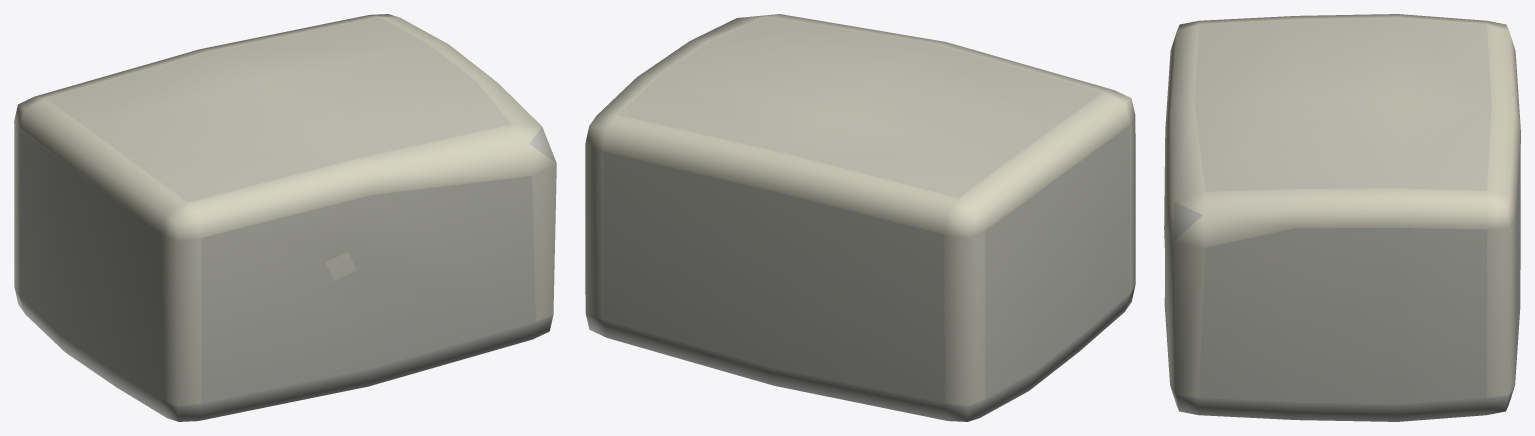
File: block_corner_stone3_LOD_setup.fbx
3 renders of one model, left to right at view 1: azimuth 30°, elevation 25°; view 2: azimuth 150°, elevation 25°; view 3: azimuth 270°, elevation 25°, orthographic. The views are drawn at different scales.
Parts seen in each view (by area): view 1: block_corner_stone3_LOD0; view 2: block_corner_stone3_LOD0; view 3: block_corner_stone3_LOD0.
Boxes of the visible parts, x1,y1,x2,y2 form: block_corner_stone3_LOD0: (14,14,556,421); block_corner_stone3_LOD0: (585,14,1135,421); block_corner_stone3_LOD0: (1164,14,1520,421).
Size of what is drawn, in the model's own units: 107 by 60.07 by 81.96.
